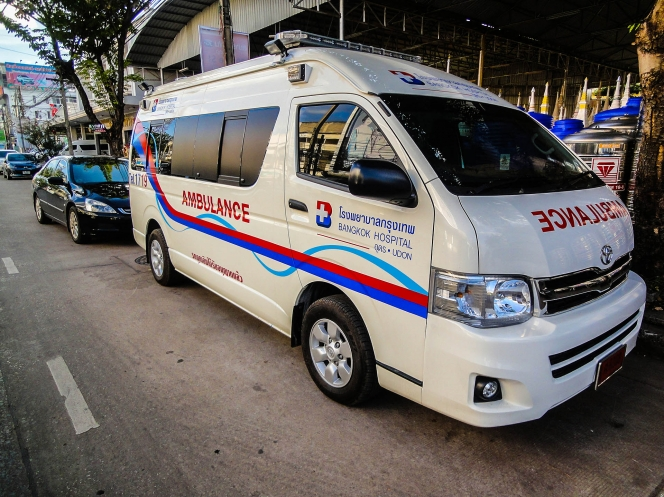van: (126, 43, 648, 429)
